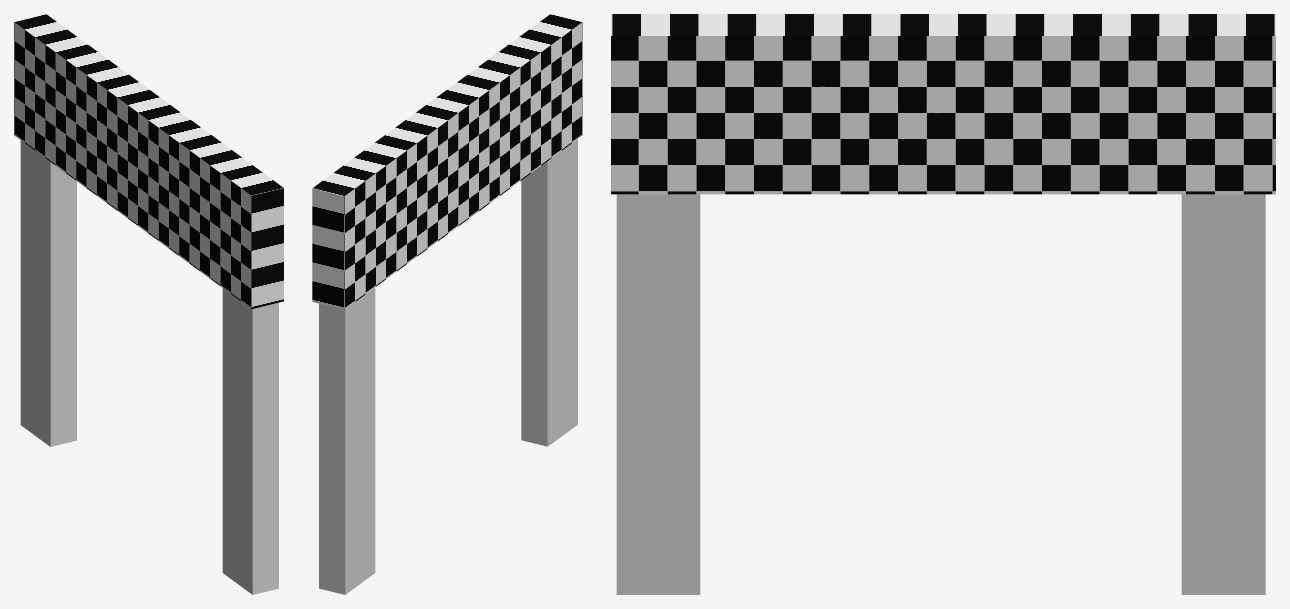
Rendered from track1.fbx.
3 views of the same model, side by side, from view 1: azimuth 30°, elevation 25°; view 2: azimuth 150°, elevation 25°; view 3: azimuth 270°, elevation 25° (orthographic). The views are drawn at different scales.
Parts seen in each view (by area): view 1: Cube.002, Cube.001, Cube; view 2: Cube.002, Cube, Cube.001; view 3: Cube.002, Cube, Cube.001.
Part boxes in pixels (box(x1,y1,x2,y2)): Cube.002: box(14, 14, 283, 308); Cube.001: box(222, 288, 278, 594); Cube: box(20, 140, 76, 446); Cube.002: box(312, 14, 582, 309); Cube: box(319, 287, 375, 594); Cube.001: box(521, 139, 577, 446); Cube.002: box(611, 14, 1275, 194); Cube: box(1181, 194, 1265, 594); Cube.001: box(616, 194, 700, 594).
Size of what is drawn, in the model's own units: 15.61 by 186 by 200.
1 material, 1 textured.
